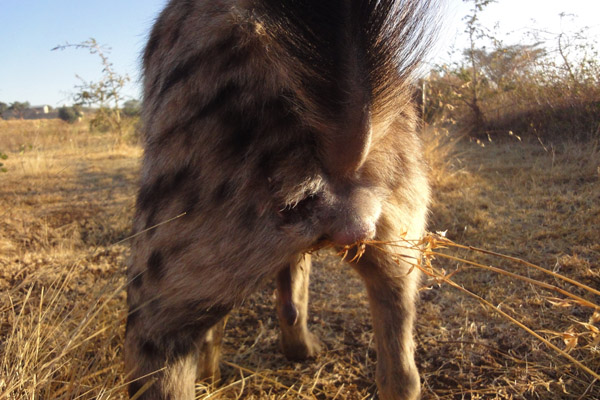hyena: (106, 1, 441, 398)
